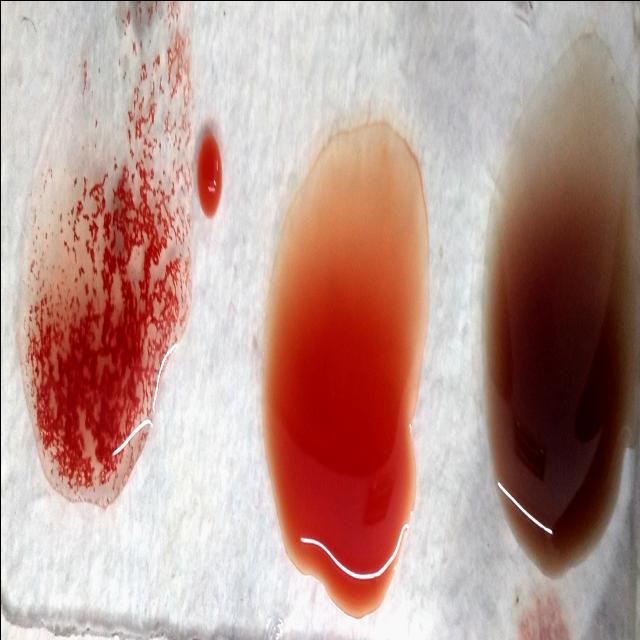D: (23, 34, 188, 509)
